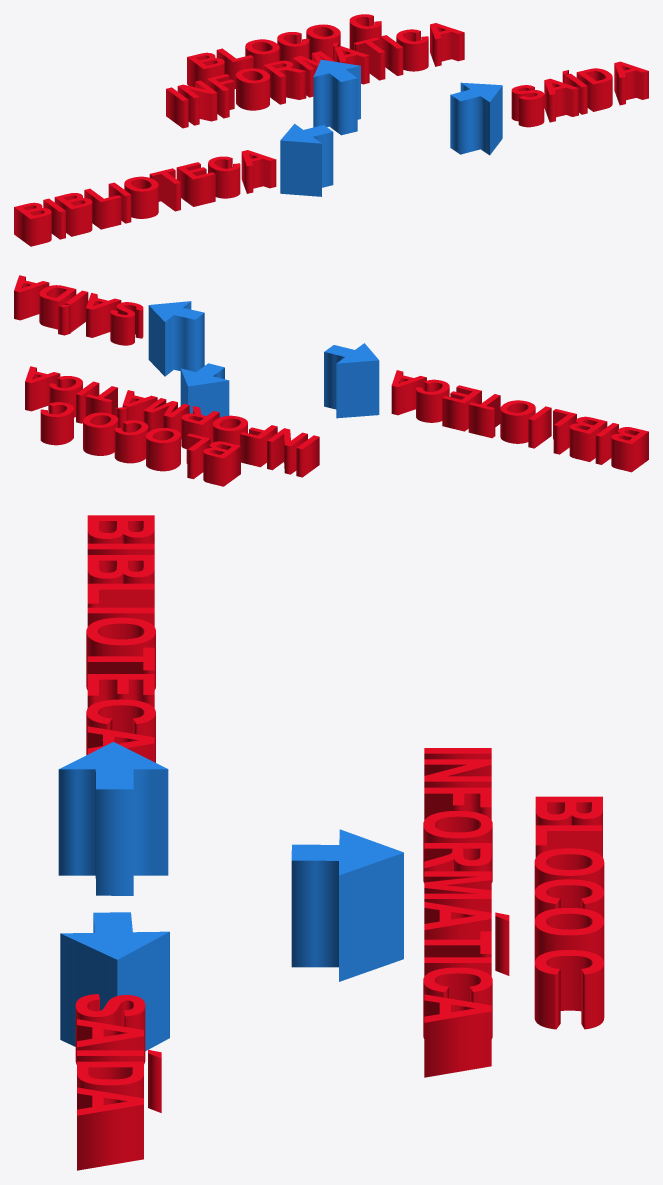
Rendered from Seta bloco C.glb.
The picture shows the model from 3 angles, top to bottom: view 1: azimuth 30°, elevation 25°; view 2: azimuth 150°, elevation 25°; view 3: azimuth 270°, elevation 25°; orthographic projection. The views are drawn at different scales.
Visible parts, largest first — view 1: Text.002, Text.003, Text.001, Text, Curve.002, Curve.003, Curve.004; view 2: Text.003, Text.002, Text, Text.001, Curve.002, Curve.003, Curve.004; view 3: Text.002, Text.003, Text, Curve.004, Curve.002, Text.001, Curve.003.
Boxes of the visible parts, x1,y1,x2,y2 form: Text.002: [166, 23, 464, 128]; Text.003: [14, 150, 276, 246]; Text.001: [511, 61, 648, 127]; Text: [187, 14, 381, 88]; Curve.002: [280, 123, 333, 196]; Curve.003: [450, 82, 502, 155]; Curve.004: [313, 59, 360, 135]; Text.003: [391, 370, 648, 472]; Text.002: [25, 366, 319, 477]; Text: [40, 402, 240, 486]; Text.001: [14, 275, 143, 345]; Curve.002: [324, 343, 379, 418]; Curve.003: [148, 301, 204, 376]; Curve.004: [180, 363, 229, 417]; Text.002: [423, 748, 509, 1077]; Text.003: [86, 515, 155, 762]; Text: [534, 796, 604, 1029]; Curve.004: [291, 829, 403, 981]; Curve.002: [58, 742, 168, 895]; Text.001: [75, 994, 161, 1170]; Curve.003: [60, 912, 169, 1051].
Size of the model in its own units: 4.23 by 0.3495 by 1.62.
